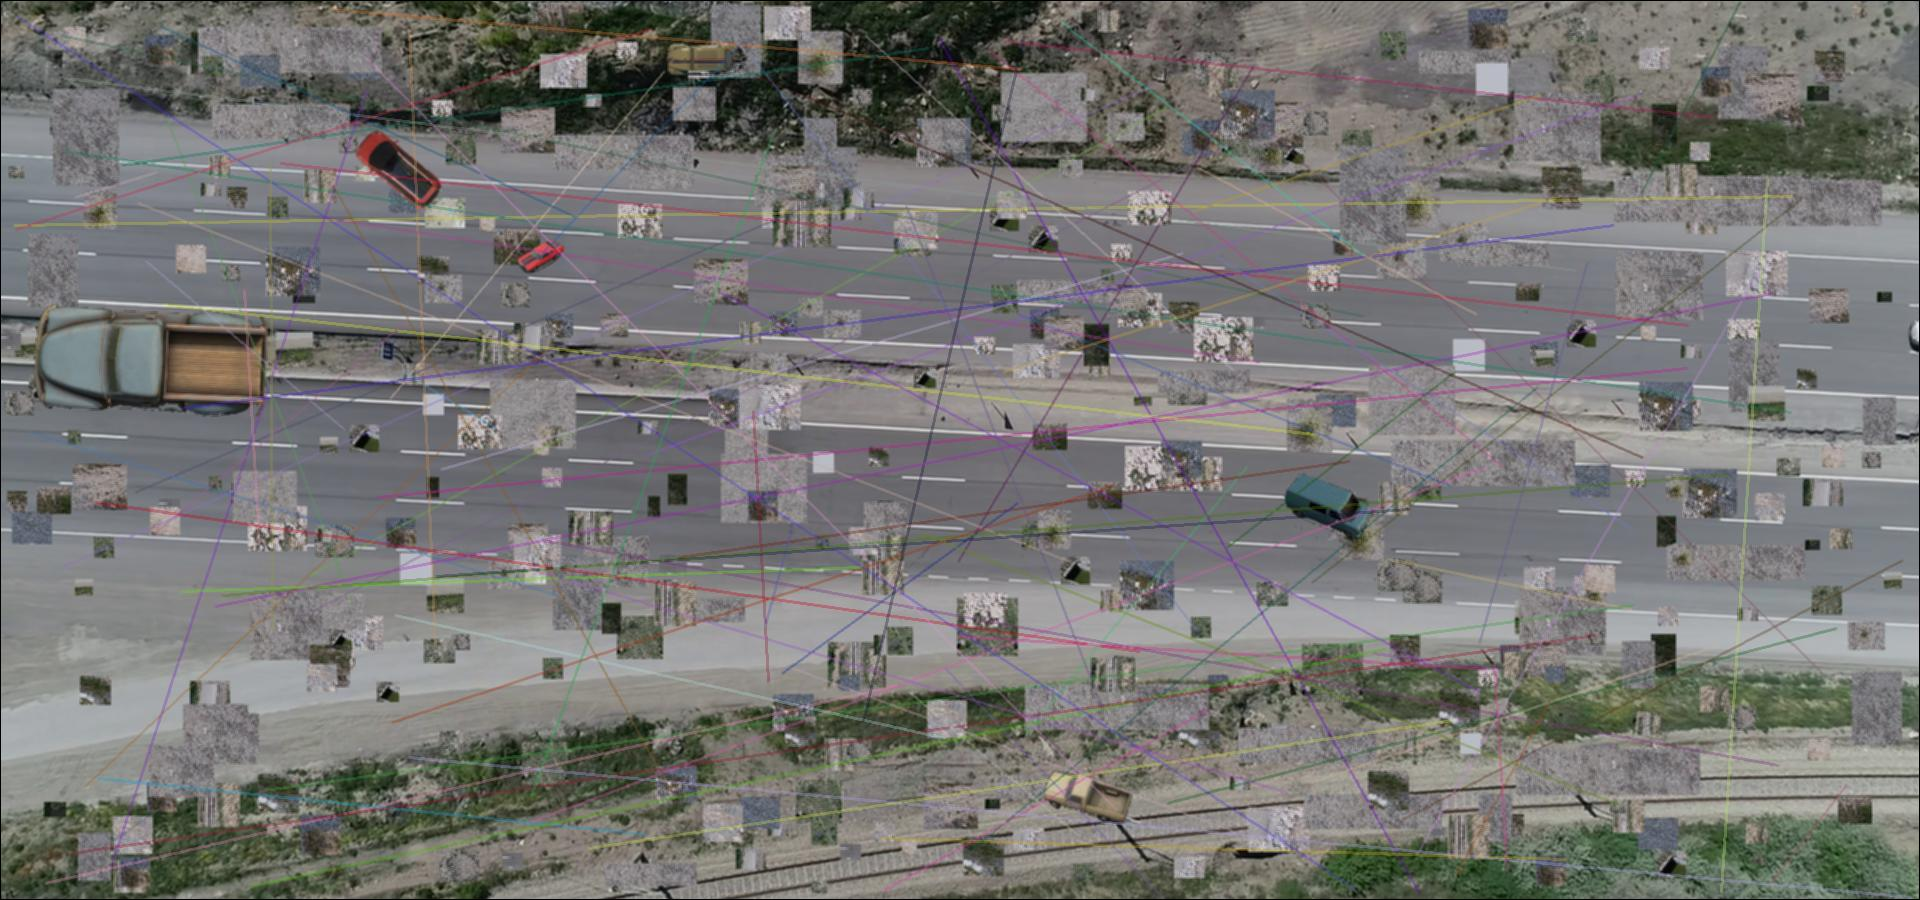arac: (33, 305, 269, 419), (351, 129, 444, 211), (1284, 471, 1373, 541), (1043, 769, 1131, 827), (661, 40, 748, 78), (518, 240, 564, 273)
